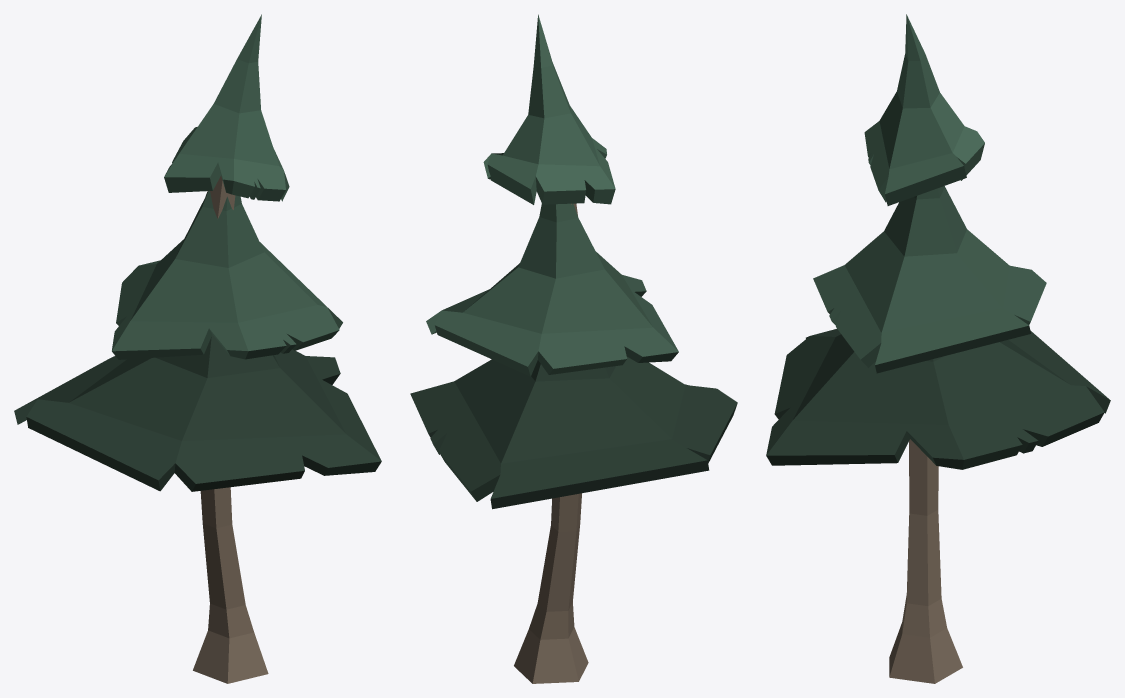
File: Pine2.glb
3 renders of one model, left to right at view 1: azimuth 30°, elevation 25°; view 2: azimuth 150°, elevation 25°; view 3: azimuth 270°, elevation 25°, orthographic. The views are drawn at different scales.
Parts seen in each view (by area): view 1: feuill.002; view 2: feuill.002; view 3: feuill.002.
Boxes of the visible parts, x1,y1,x2,y2 form: feuill.002: (14, 14, 381, 683); feuill.002: (410, 14, 737, 683); feuill.002: (766, 14, 1110, 683).
Bounding box in the file's own units: 25.93 × 52 × 24.45.
